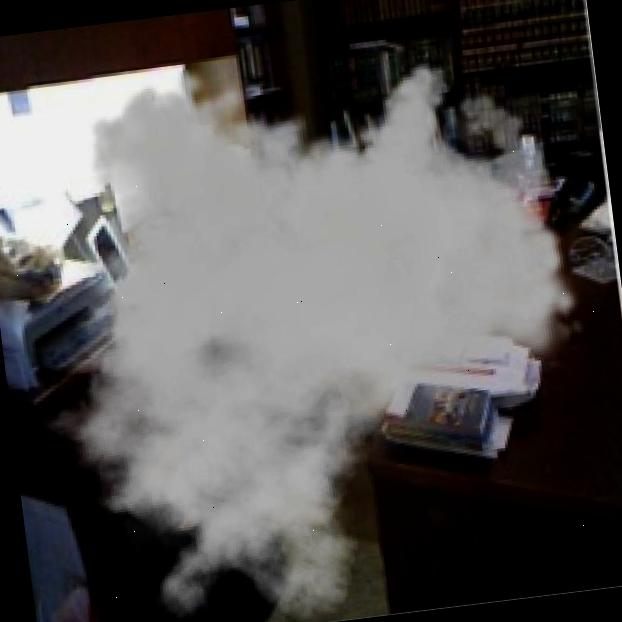smoke: (0, 22, 616, 622)
